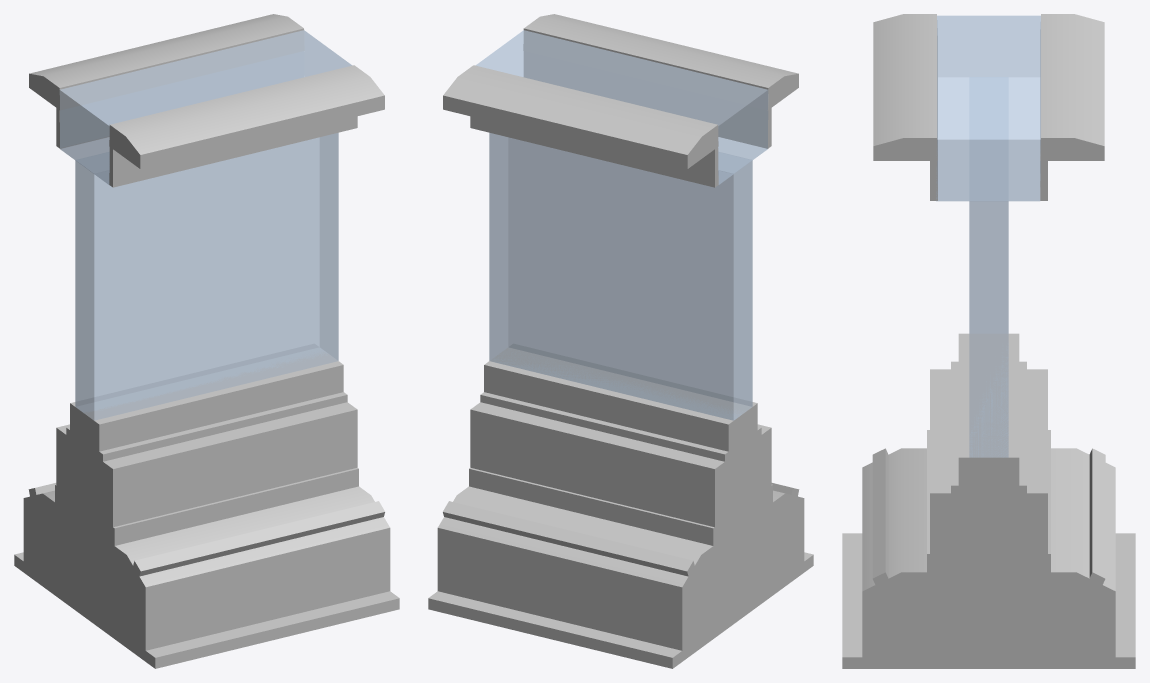
File: GlassWall.fbx
3 views of the same model, side by side, from view 1: azimuth 30°, elevation 25°; view 2: azimuth 150°, elevation 25°; view 3: azimuth 270°, elevation 25° (orthographic). The views are drawn at different scales.
Parts seen in each view (by area): view 1: GlassWall; view 2: GlassWall; view 3: GlassWall.
Part boxes in pixels (<box>): GlassWall: <box>14,14,399,668</box>; GlassWall: <box>428,14,813,668</box>; GlassWall: <box>842,14,1135,668</box>.
Bounding box in the file's own units: 99.99 × 200 × 100.
